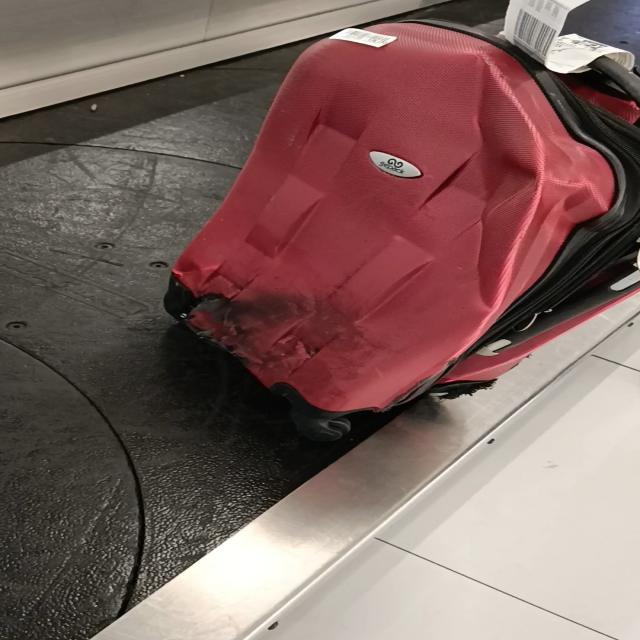Damage-bag: (433, 22, 638, 347), (164, 276, 344, 381)
